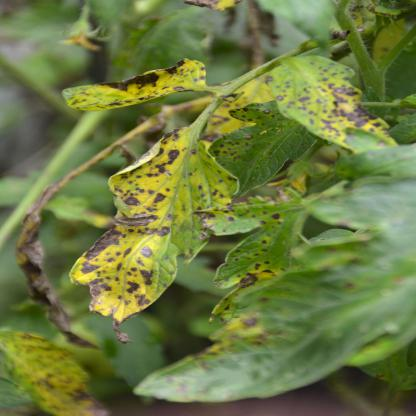Tomato Septoria leaf spot: (67, 118, 231, 334), (236, 50, 415, 158), (50, 47, 218, 125)
